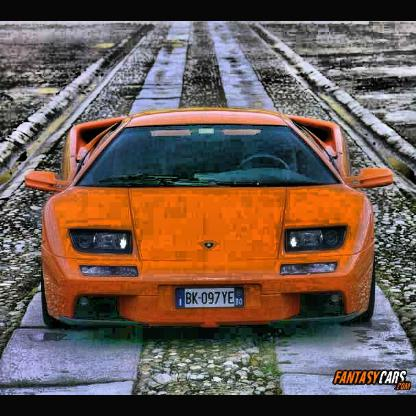Lamborghini Diablo Coupe 2001: (25, 106, 395, 348)
